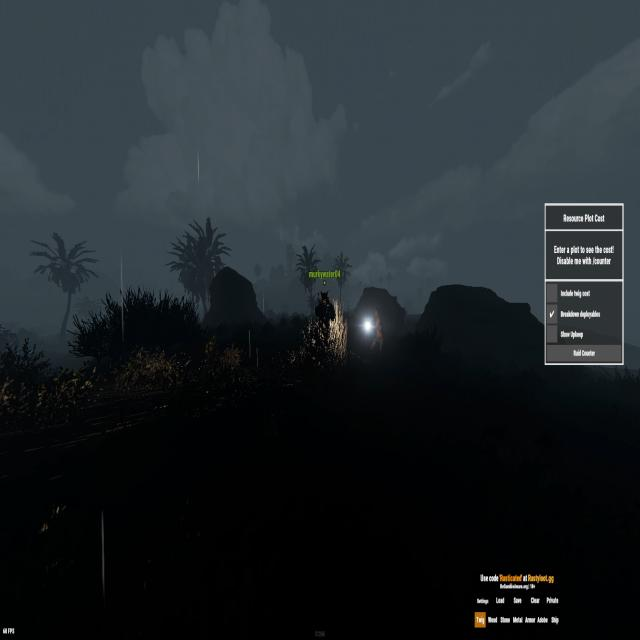Player: (314, 287, 336, 339), (370, 304, 386, 360)
